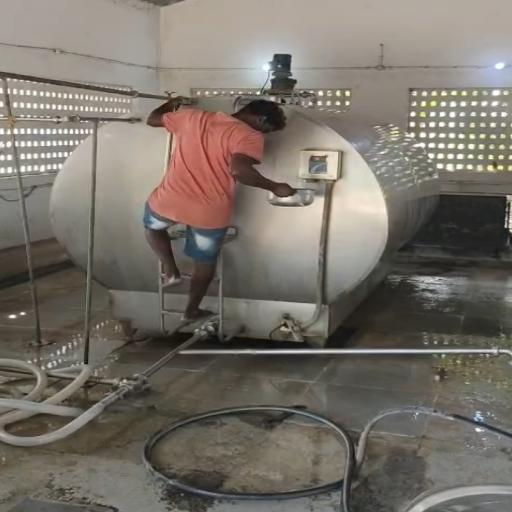silo: (46, 93, 442, 342)
vessel: (266, 187, 316, 208)
